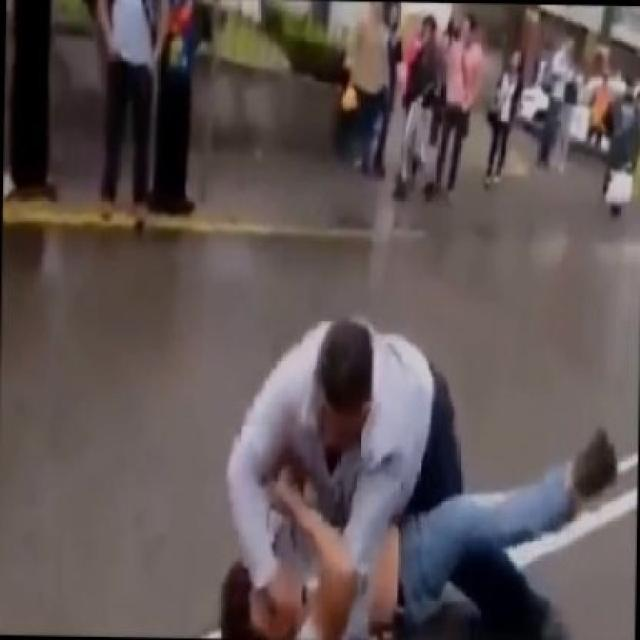fight: (191, 247, 638, 638)
non-fight: (69, 0, 183, 222)
